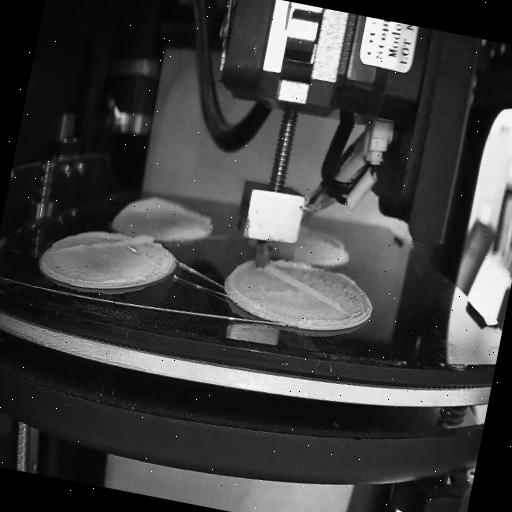over_extrusion: (51, 214, 155, 275), (262, 262, 356, 316), (118, 188, 215, 236), (295, 224, 348, 252)
